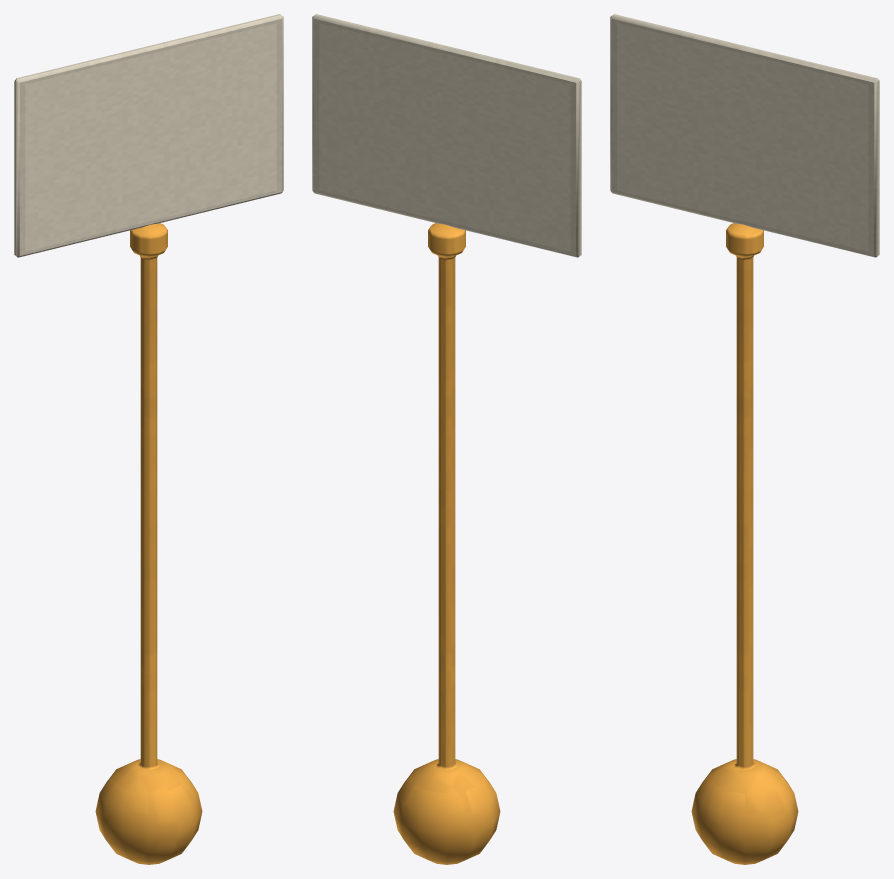
The picture shows the model from 3 angles, left to right: view 1: azimuth 30°, elevation 25°; view 2: azimuth 150°, elevation 25°; view 3: azimuth 330°, elevation 25°; orthographic projection.
Visible parts, largest first — view 1: survey-pin; view 2: survey-pin; view 3: survey-pin.
Part boxes in pixels (x1,y1,x2,y2): survey-pin: [14, 14, 283, 864]; survey-pin: [312, 14, 581, 864]; survey-pin: [610, 14, 879, 864].
Bounding box in the file's own units: 0.022 × 0.0638 × 0.0076.
2 materials, 2 textured.
